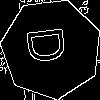D: (26, 24, 76, 66)
